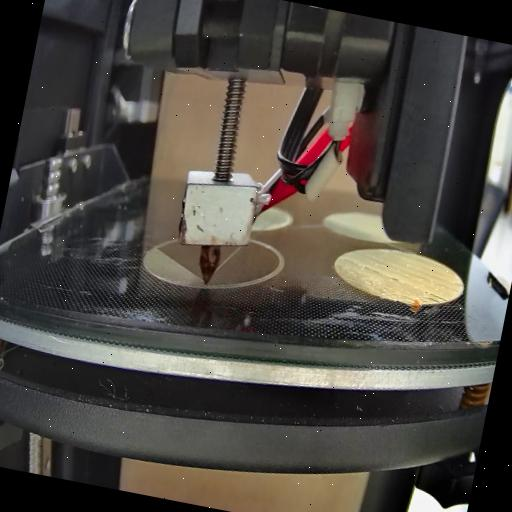under_extrusion: (342, 256, 402, 284), (418, 288, 448, 312), (446, 277, 466, 290)
